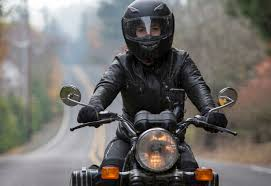com_capacete: (117, 1, 179, 71)
